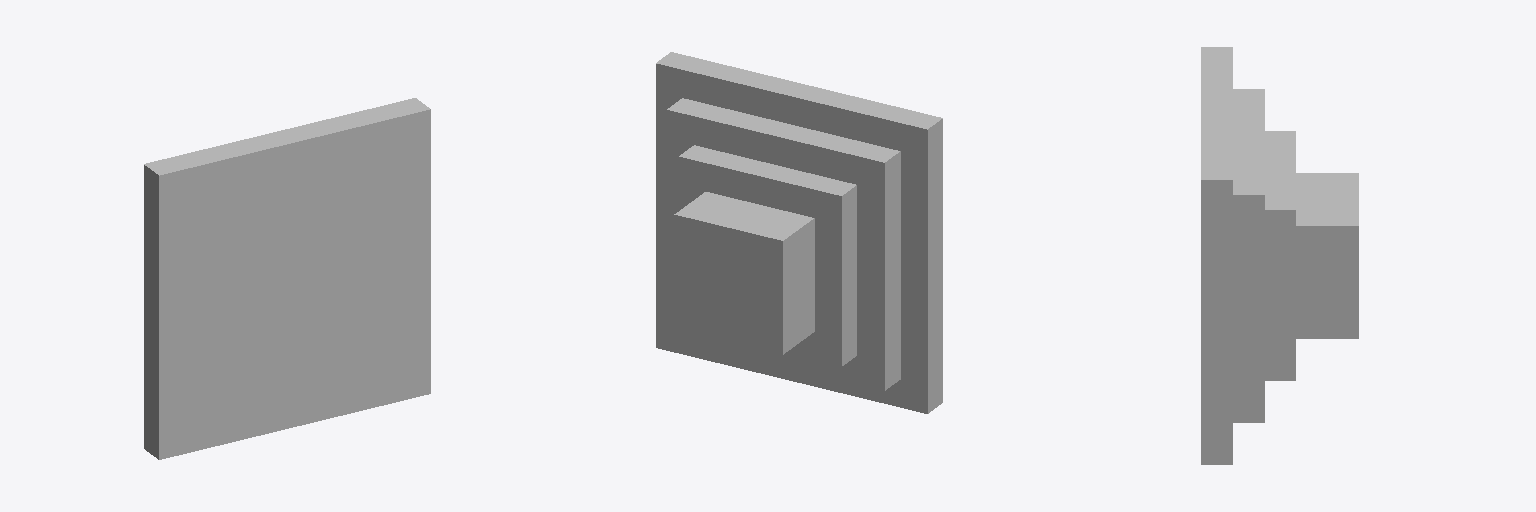
File: writer.obj
3 views of the same model, side by side, from view 1: azimuth 30°, elevation 25°; view 2: azimuth 150°, elevation 25°; view 3: azimuth 270°, elevation 25° (orthographic).
Visible parts, largest first — view 1: back, four; view 2: four, three, one, two; view 3: four, three, one, two.
Part boxes in pixels (left/top/right/bottom): back: left=159, top=109, right=430, bottom=459; four: left=144, top=98, right=429, bottom=459; four: left=656, top=52, right=942, bottom=413; three: left=667, top=98, right=900, bottom=390; one: left=674, top=192, right=814, bottom=354; two: left=679, top=145, right=856, bottom=366; four: left=1201, top=47, right=1232, bottom=464; three: left=1233, top=89, right=1264, bottom=422; one: left=1296, top=173, right=1358, bottom=338; two: left=1265, top=131, right=1295, bottom=380.
Bounding box in the file's own units: 0.625 × 0.625 × 0.3125.